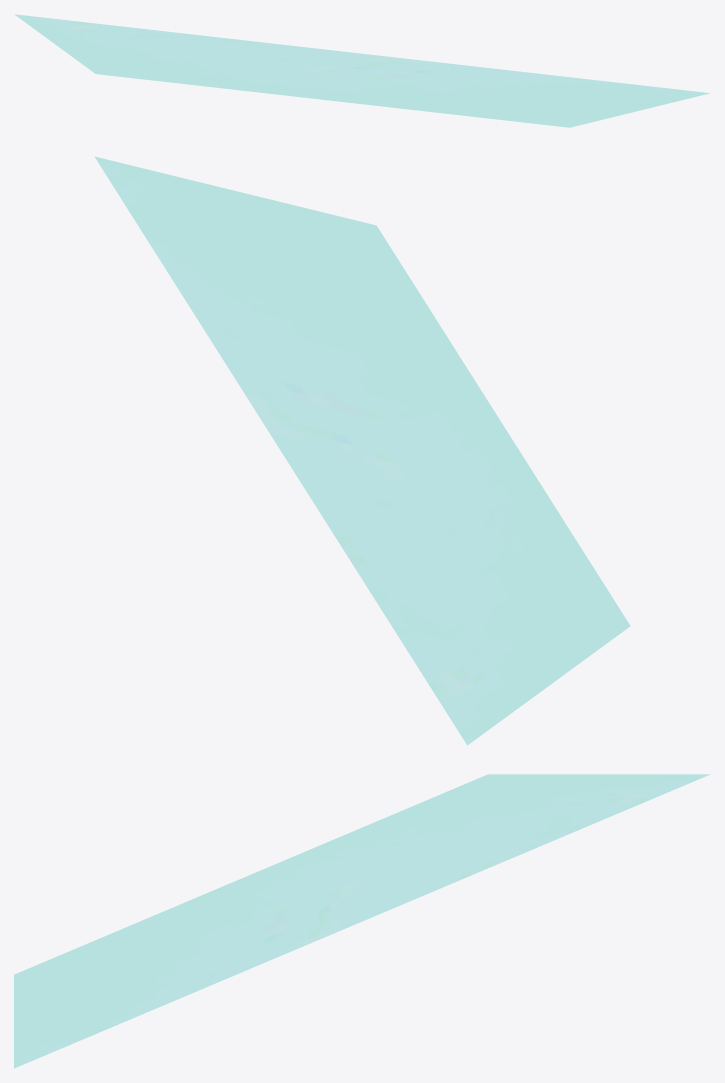
The model's file is wavewalldiagonal.fbx.
3 renders of one model, top to bottom at view 1: azimuth 30°, elevation 25°; view 2: azimuth 150°, elevation 25°; view 3: azimuth 270°, elevation 25°, orthographic. The views are drawn at different scales.
Visible parts, largest first — view 1: sunken_tileset/sunken_wave; view 2: sunken_tileset/sunken_wave; view 3: sunken_tileset/sunken_wave.
Boxes of the visible parts, left/top/right/bottom form: sunken_tileset/sunken_wave: left=14, top=14, right=709, bottom=127; sunken_tileset/sunken_wave: left=94, top=156, right=630, bottom=745; sunken_tileset/sunken_wave: left=14, top=774, right=710, bottom=1068.
Size of the model in its own units: 4 by 0.000739 by 4.
